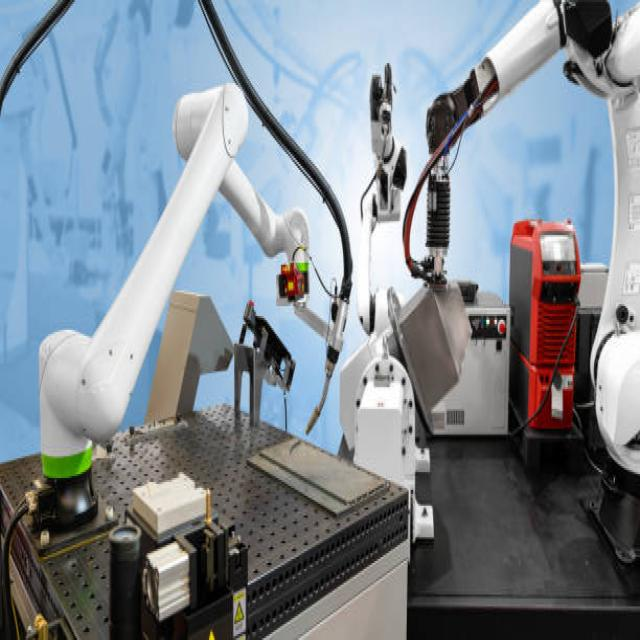Robotic-arm: (34, 82, 331, 467), (413, 0, 640, 464)
